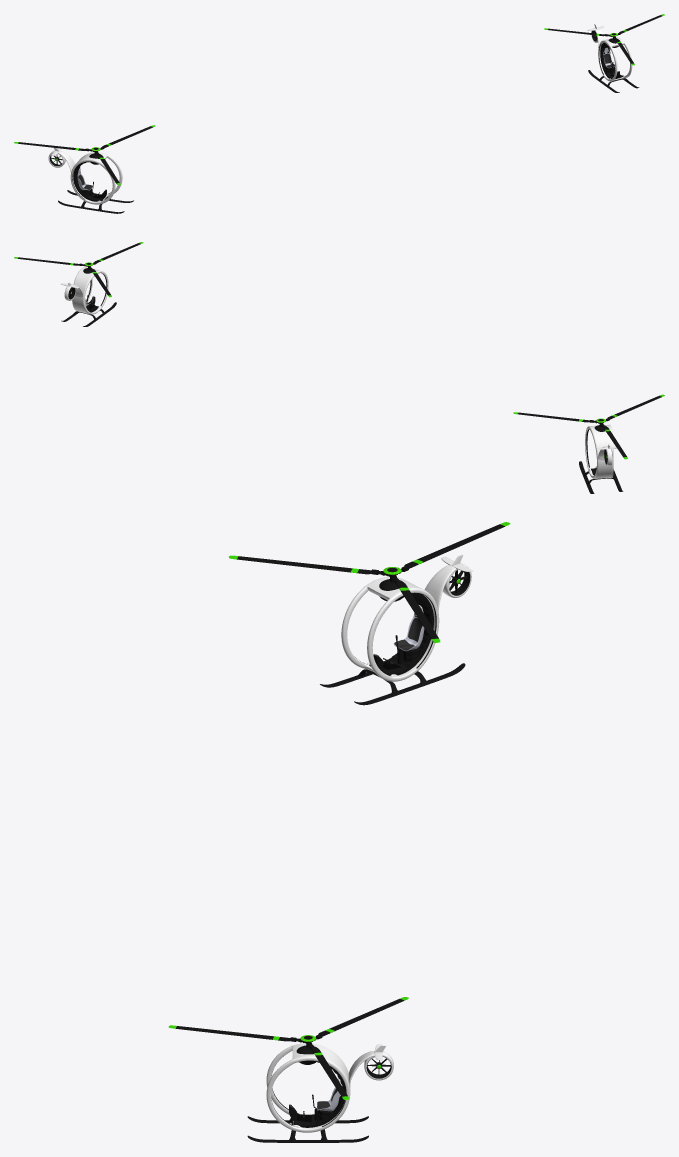
File: helis2.glb
The picture shows the model from 3 angles, top to bottom: view 1: azimuth 30°, elevation 25°; view 2: azimuth 150°, elevation 25°; view 3: azimuth 270°, elevation 25°; orthographic projection. The views are drawn at different scales.
Parts seen in each view (by area): view 1: HELIKOPTER.002, HELIKOPTER, HELIKOPTER.001, HELIKOPTER.009; view 2: HELIKOPTER.002, HELIKOPTER, HELIKOPTER.001, HELIKOPTER.009; view 3: HELIKOPTER.002, HELIKOPTER, HELIKOPTER.001, HELIKOPTER.009.
Boxes of the visible parts, left/top/right/bottom form: HELIKOPTER.002: left=48, top=147, right=133, bottom=213; HELIKOPTER: left=587, top=24, right=639, bottom=92; HELIKOPTER.001: left=14, top=125, right=155, bottom=185; HELIKOPTER.009: left=544, top=14, right=664, bottom=65; HELIKOPTER.002: left=579, top=418, right=623, bottom=493; HELIKOPTER: left=60, top=262, right=116, bottom=326; HELIKOPTER.001: left=513, top=394, right=664, bottom=459; HELIKOPTER.009: left=14, top=242, right=143, bottom=297; HELIKOPTER.002: left=320, top=554, right=472, bottom=705; HELIKOPTER: left=247, top=1035, right=393, bottom=1142; HELIKOPTER.001: left=229, top=522, right=510, bottom=642; HELIKOPTER.009: left=168, top=997, right=408, bottom=1099.
Bounding box in the file's own units: 21.07 × 2.12 × 5.11.
